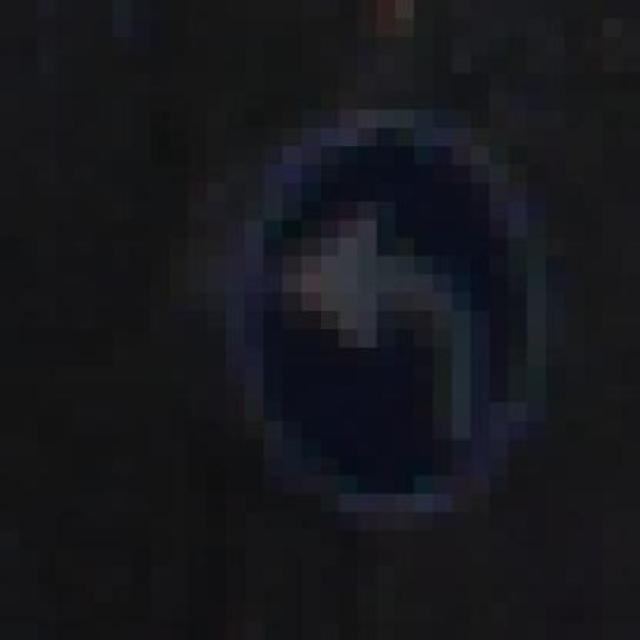Turn left ahead: (207, 91, 565, 548)
